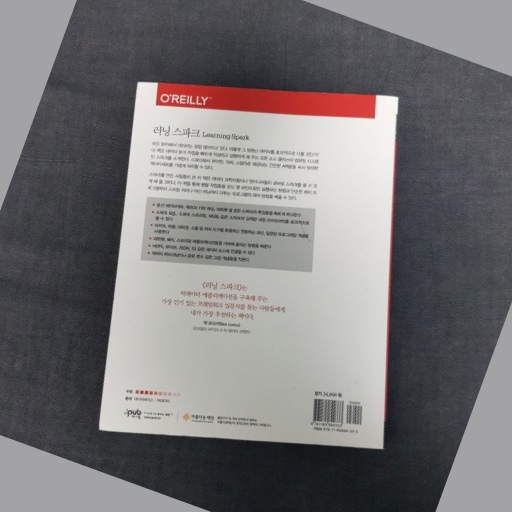Paper_0: (102, 76, 397, 454)
